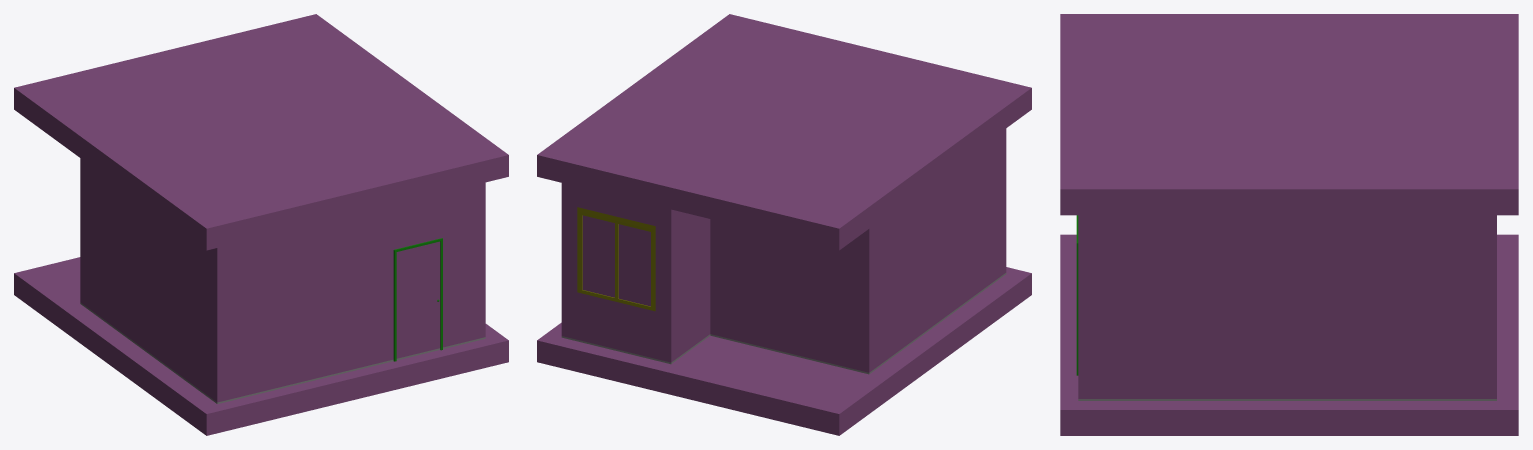
The model's file is FloorPlan330.fbx.
3 views of the same model, side by side, from view 1: azimuth 30°, elevation 25°; view 2: azimuth 150°, elevation 25°; view 3: azimuth 270°, elevation 25° (orthographic). The views are drawn at different scales.
Visible parts, largest first — view 1: Ceiling, StandardWallSize, Floor, StandardDoorFrame1; view 2: Ceiling, StandardWallSize, Floor, StandardWindow1, WindowTreatment1; view 3: Ceiling, StandardWallSize, Floor, StandardDoorFrame1.
Part boxes in pixels (bbox=[...]): Ceiling: bbox=[14, 14, 508, 250]; StandardWallSize: bbox=[80, 158, 485, 403]; Floor: bbox=[14, 257, 508, 435]; StandardDoorFrame1: bbox=[393, 238, 442, 361]; Ceiling: bbox=[537, 14, 1031, 250]; StandardWallSize: bbox=[561, 128, 1006, 374]; Floor: bbox=[537, 267, 1031, 435]; StandardWindow1: bbox=[579, 212, 653, 310]; WindowTreatment1: bbox=[577, 207, 655, 311]; Ceiling: bbox=[1060, 14, 1518, 215]; StandardWallSize: bbox=[1078, 215, 1496, 400]; Floor: bbox=[1060, 234, 1518, 435]; StandardDoorFrame1: bbox=[1076, 215, 1078, 375].
Bounding box in the file's own units: 580 × 380 × 640.
